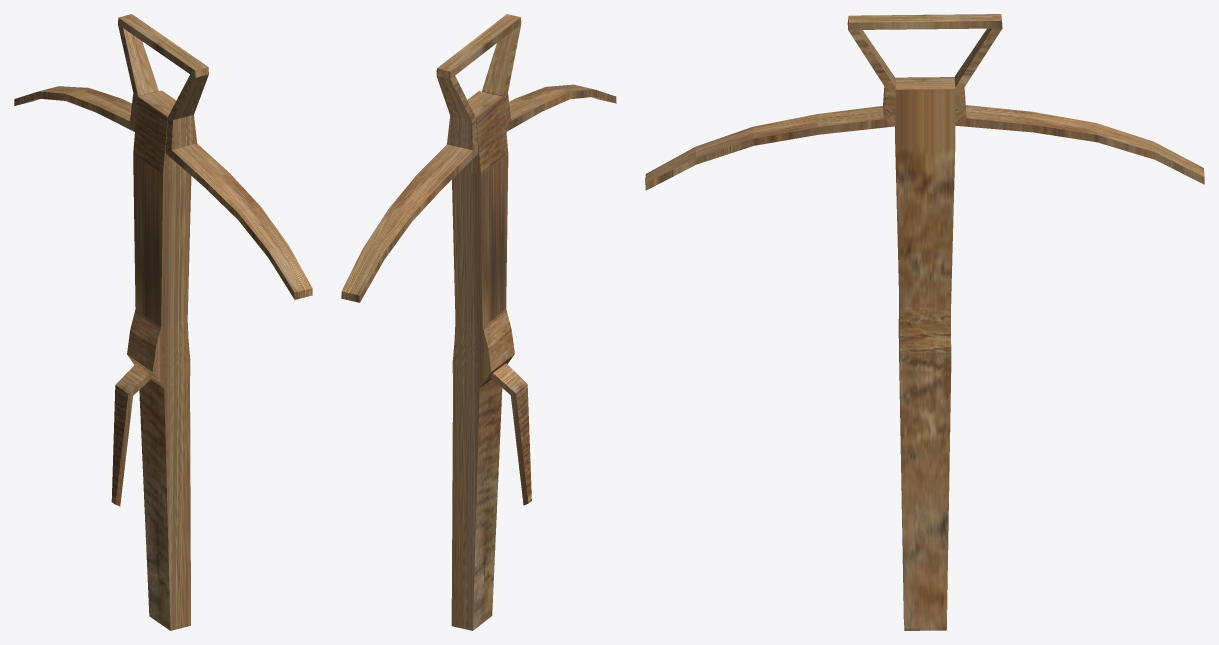
File: wooden-crossbow.obj
3 renders of one model, left to right at view 1: azimuth 30°, elevation 25°; view 2: azimuth 150°, elevation 25°; view 3: azimuth 270°, elevation 25°, orthographic. The views are drawn at different scales.
Visible parts, largest first — view 1: Mesh_Mesh_KingdomCrossbow_; view 2: Mesh_Mesh_KingdomCrossbow_; view 3: Mesh_Mesh_KingdomCrossbow_.
Boxes of the visible parts, x1,y1,x2,y2 form: Mesh_Mesh_KingdomCrossbow_: (14,14,312,630); Mesh_Mesh_KingdomCrossbow_: (341,14,616,630); Mesh_Mesh_KingdomCrossbow_: (645,14,1204,630).
Bounding box in the file's own units: 0.2386 × 1.93 × 1.62.
2 materials, 2 textured.
